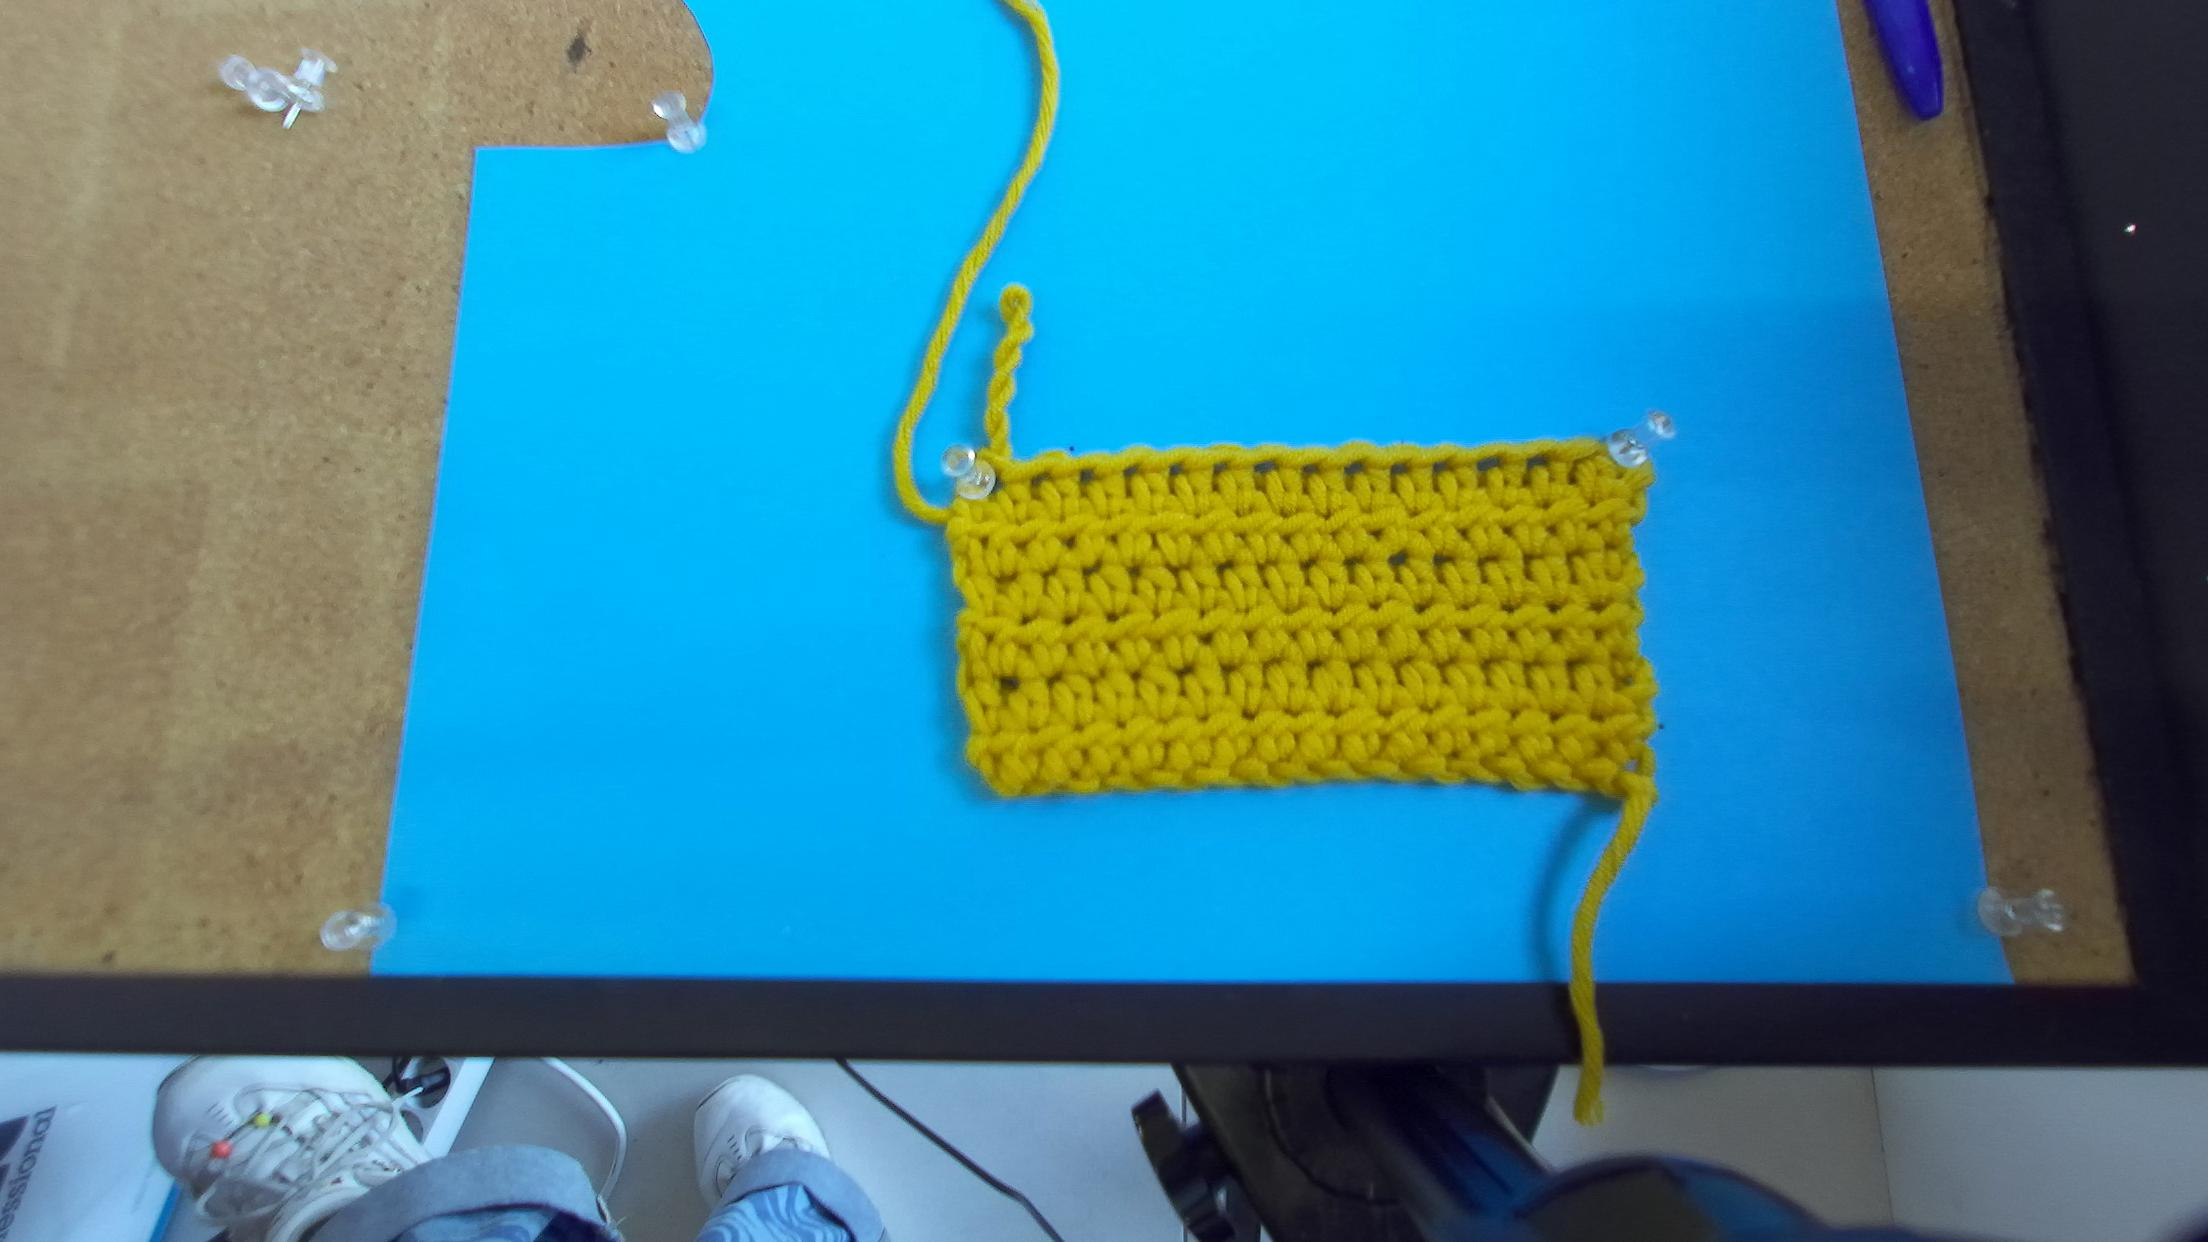hole: (987, 469, 1005, 496), (1253, 458, 1277, 478), (1341, 458, 1365, 478), (1030, 470, 1054, 488), (1473, 455, 1501, 470), (1524, 453, 1548, 469), (1571, 453, 1595, 469), (1080, 469, 1099, 485), (1300, 461, 1319, 476), (1433, 458, 1453, 473), (1389, 461, 1410, 475), (1168, 461, 1184, 478), (1124, 463, 1140, 478), (1210, 461, 1228, 475)
swatch: (943, 428, 1659, 811)
